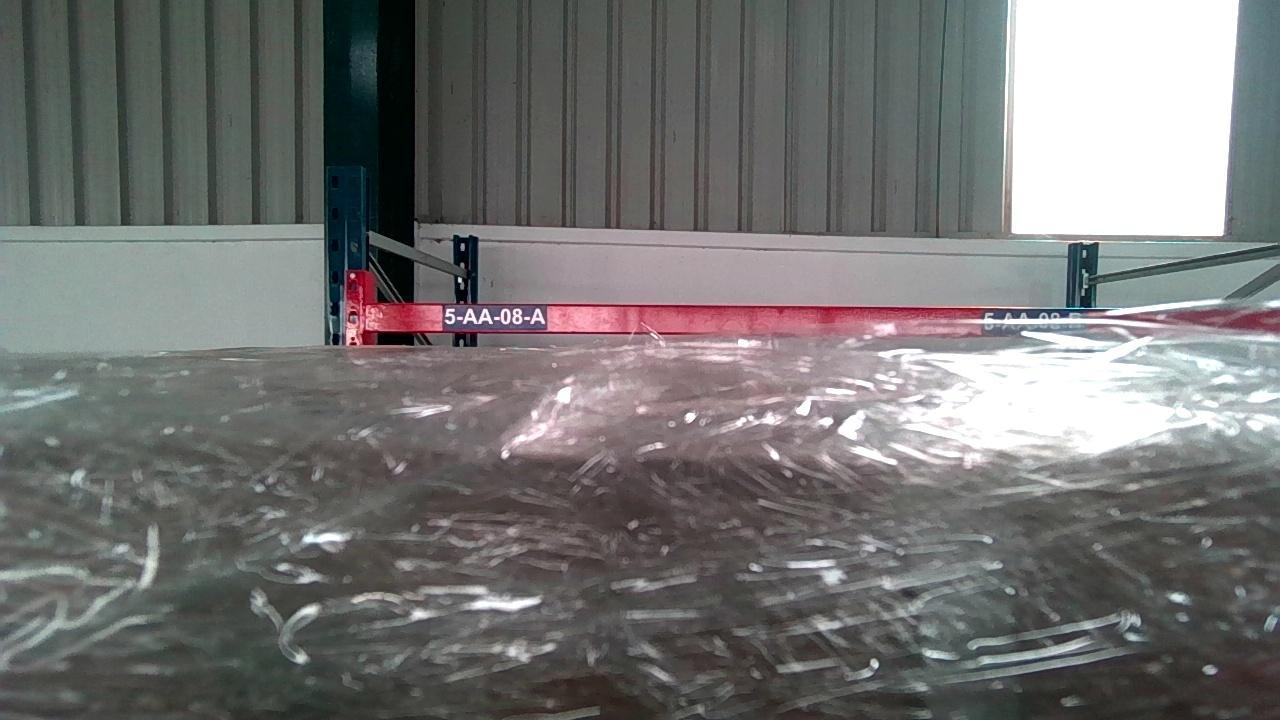h_rack: (369, 307, 1036, 341)
